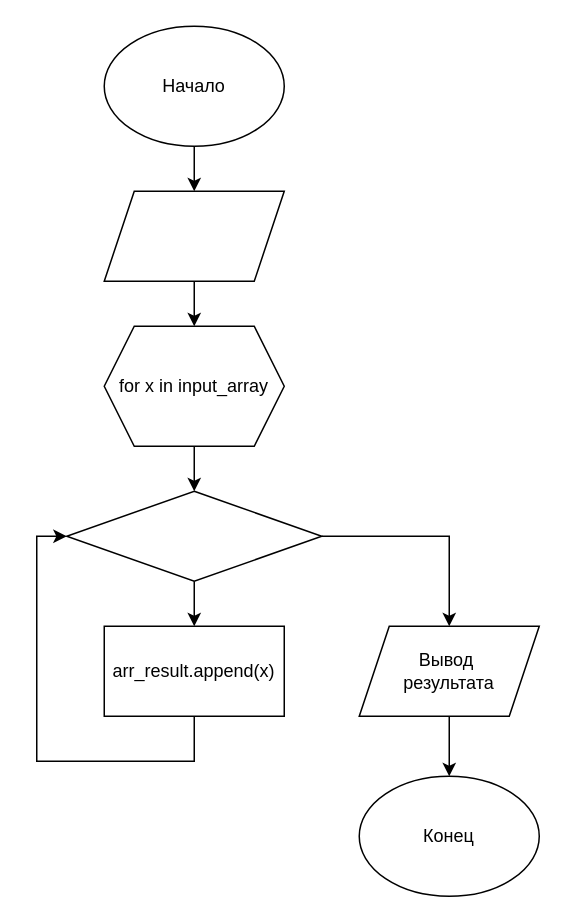
Some shapes in this 566 by 923 pixel diagram are drawn without their labels. The shapes that lost their labels are listed below. From the top down, each one's centre as x and y in pixels, then its label:
At [193,235]: "Ввод массива input_array".
At [193,535]: "if len(x) <= 3".
